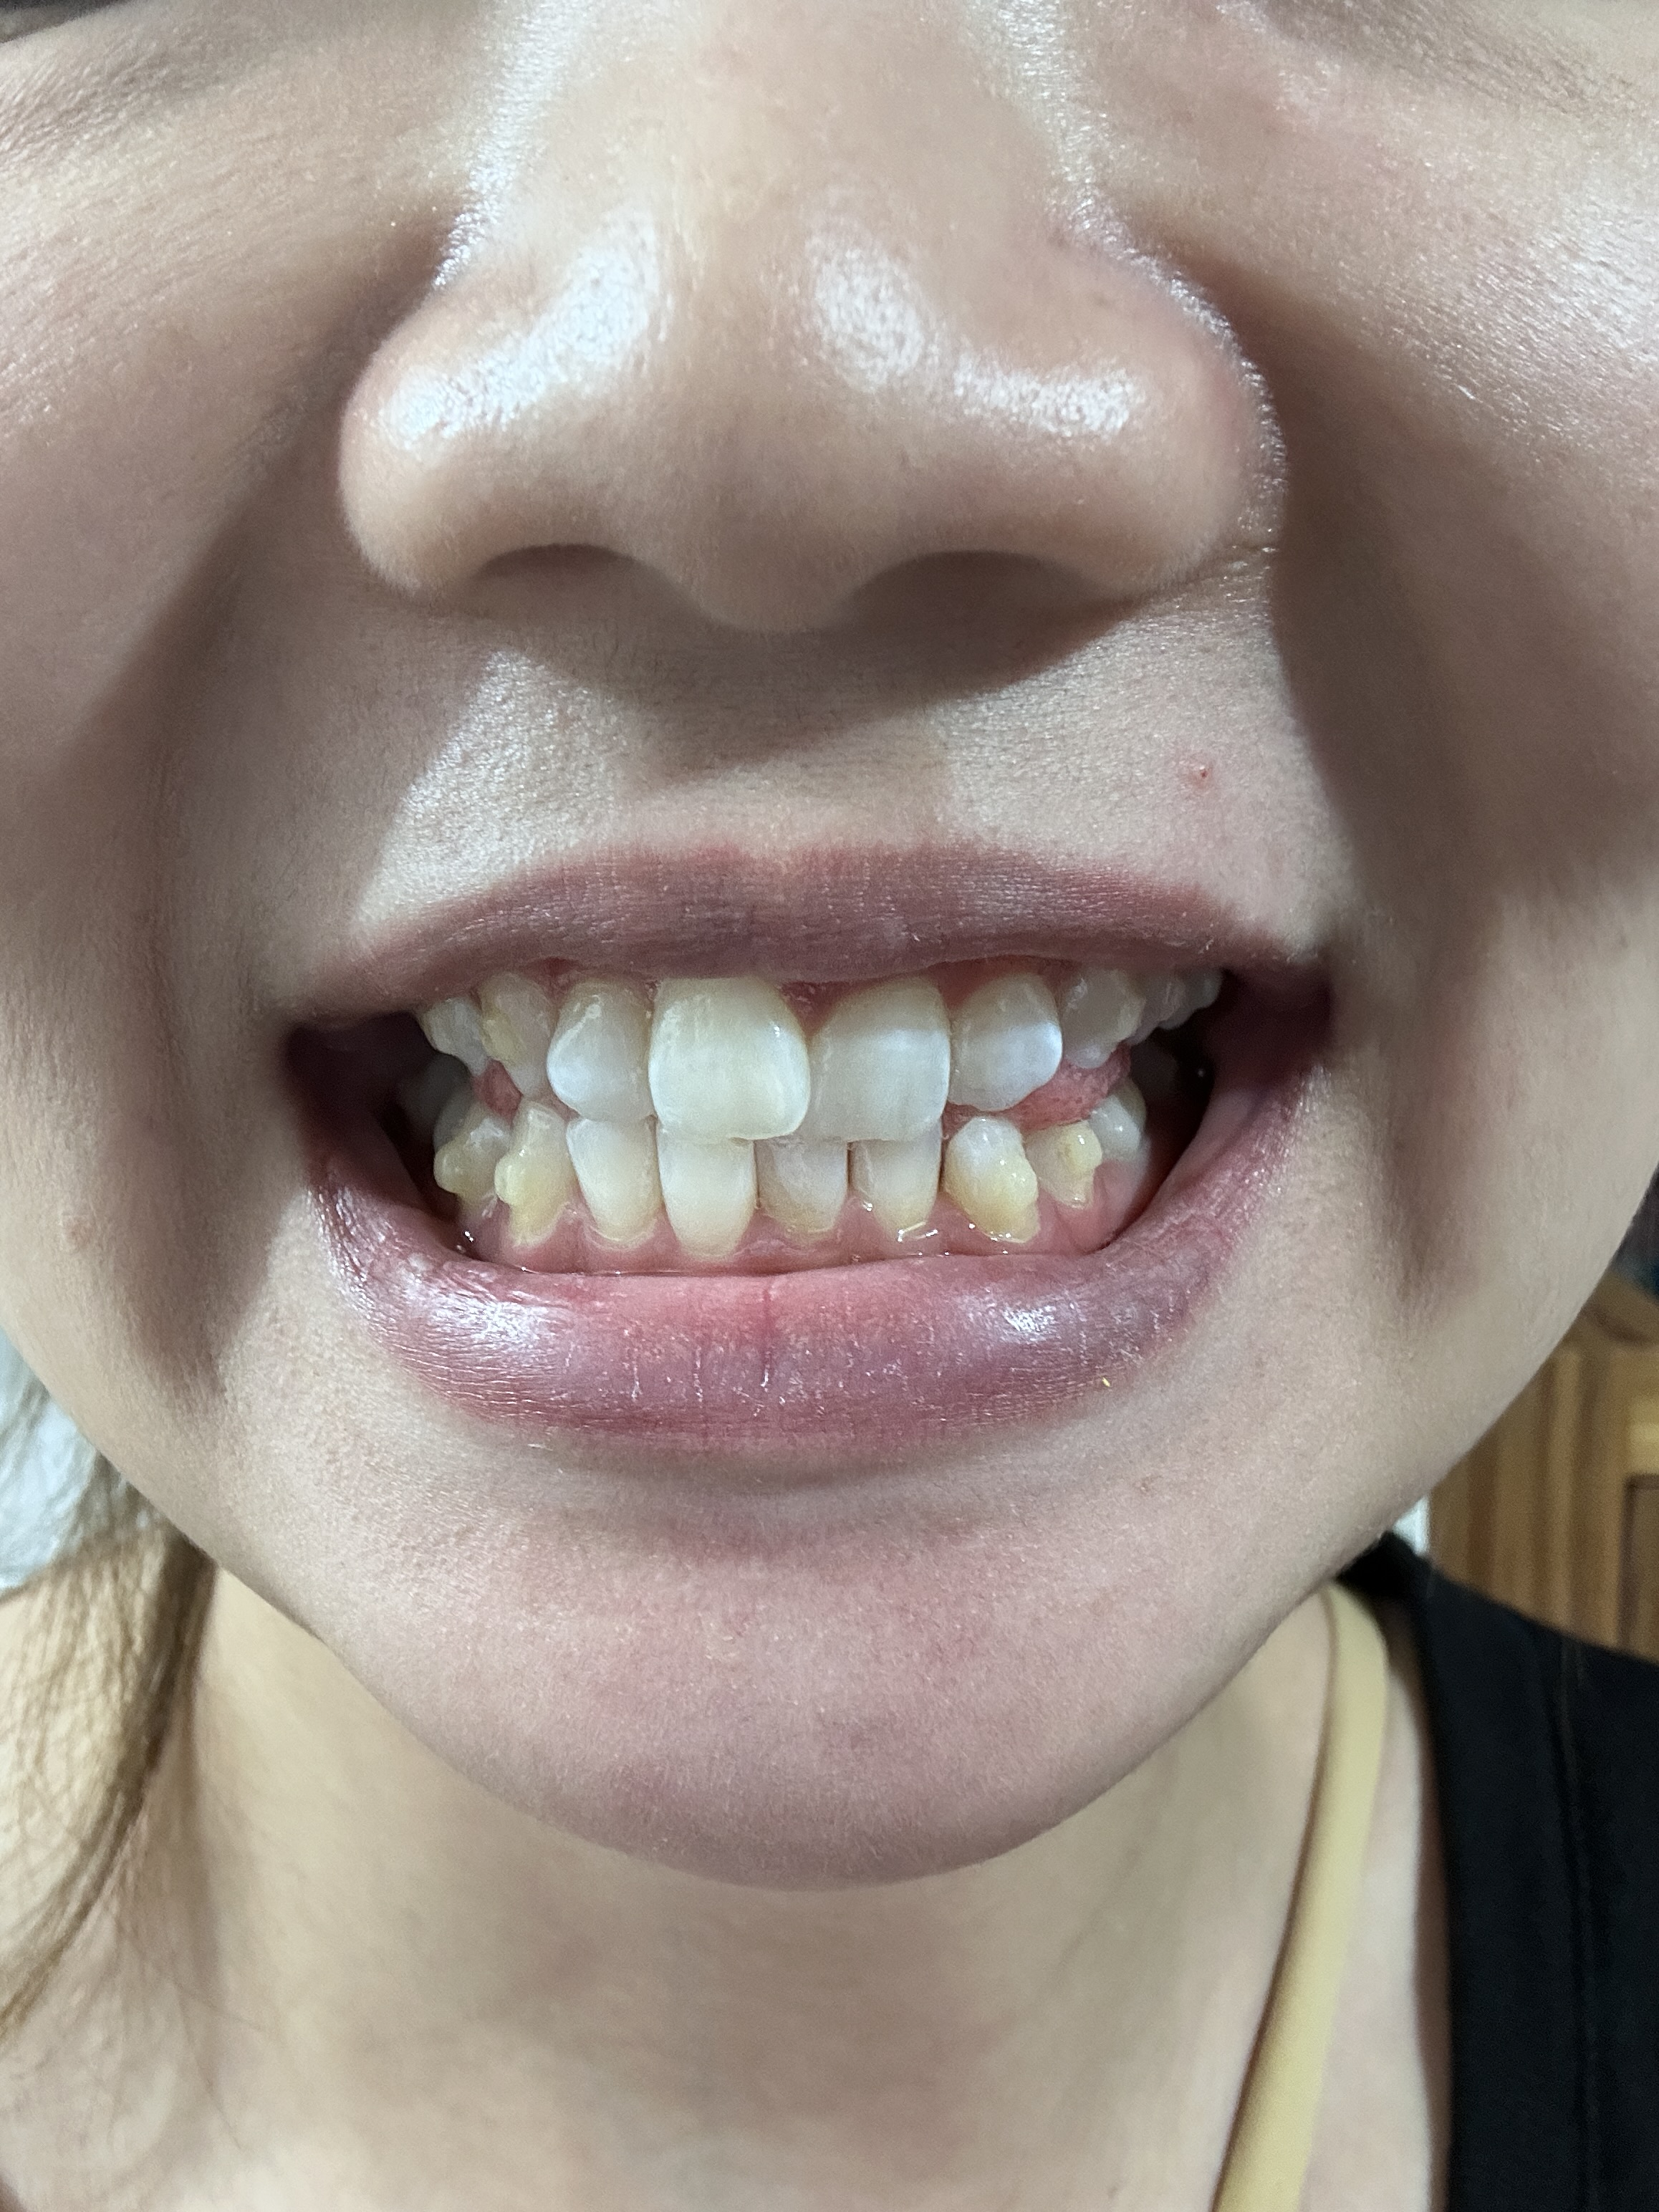teeth: (653, 982, 817, 1141), (817, 975, 962, 1144), (962, 979, 1063, 1115), (551, 979, 640, 1118), (950, 1129, 1046, 1247), (657, 1136, 756, 1247), (857, 1144, 946, 1245), (500, 1103, 565, 1238), (573, 1132, 648, 1242), (490, 974, 551, 1089), (774, 1132, 840, 1230), (1080, 965, 1138, 1068), (1046, 1120, 1098, 1202)
